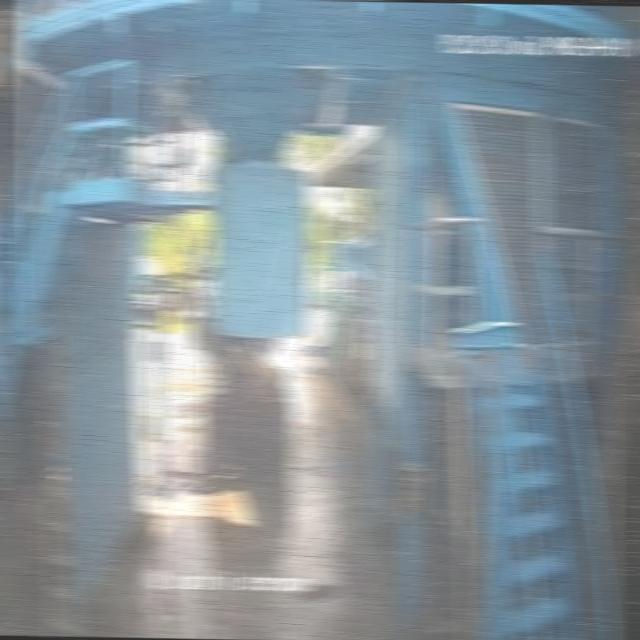cement_mixer_truck: (190, 275, 295, 473)
